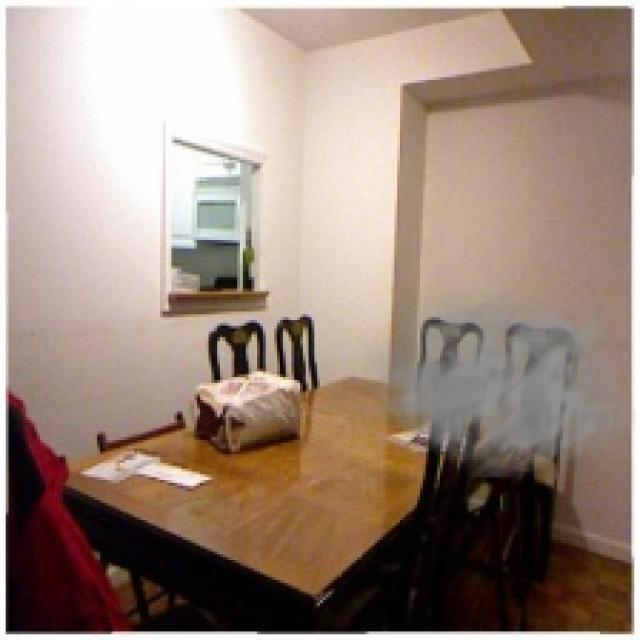Smoke: (354, 277, 637, 480)
